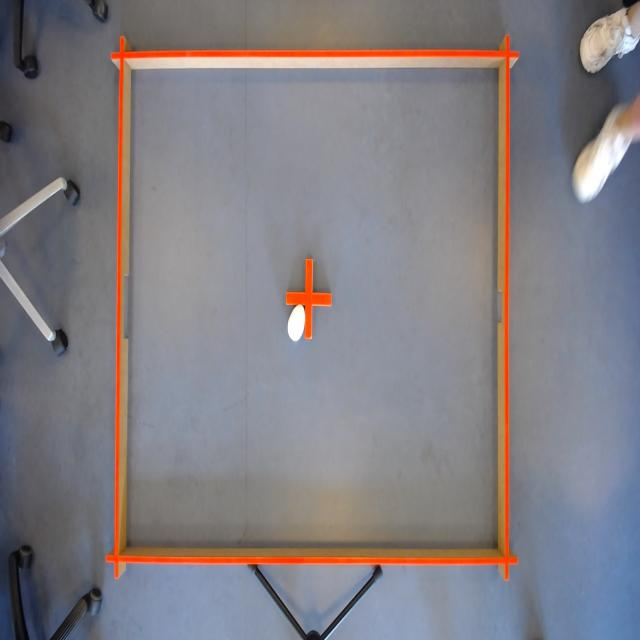cross: (284, 255, 334, 341)
egg: (286, 301, 307, 345)
